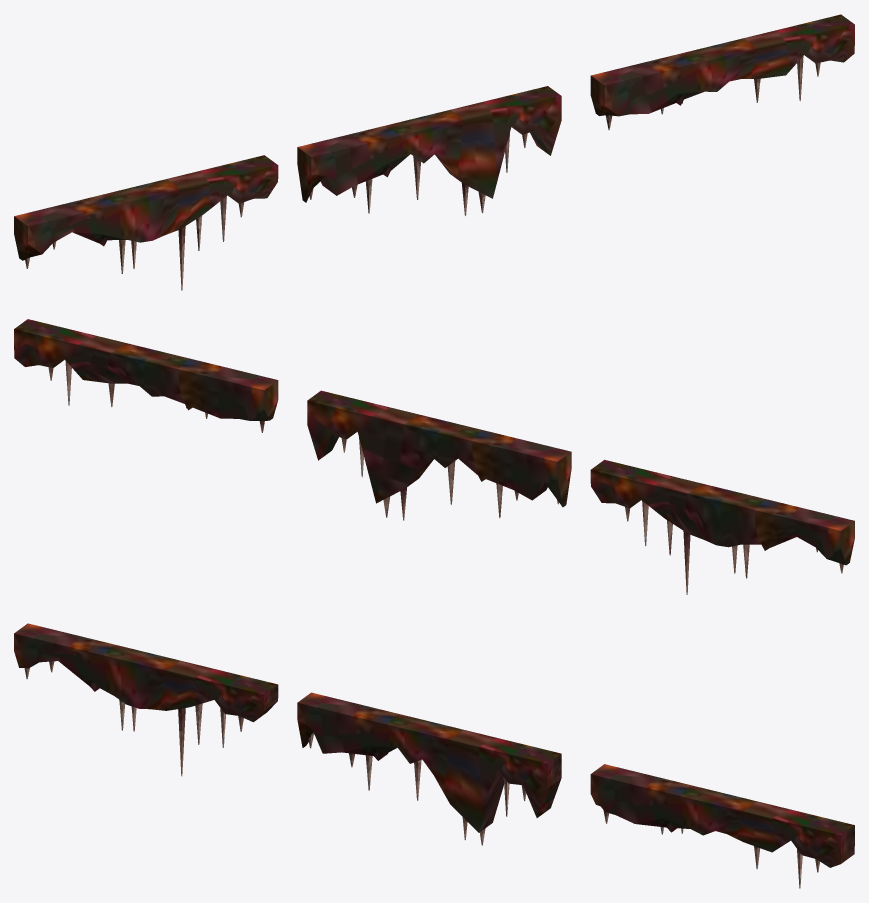
The model's file is Platforms.fbx.
The picture shows the model from 3 angles, top to bottom: view 1: azimuth 30°, elevation 25°; view 2: azimuth 150°, elevation 25°; view 3: azimuth 330°, elevation 25°; orthographic projection.
Parts seen in each view (by area): view 1: Cube.007, Cube.013, Cube.012; view 2: Cube.007, Cube.013, Cube.012; view 3: Cube.007, Cube.013, Cube.012.
Boxes of the visible parts, x1,y1,x2,y2 form: Cube.007: (297,86,561,202); Cube.013: (590,14,854,116); Cube.012: (14,155,278,260); Cube.007: (307,390,571,507); Cube.013: (14,319,278,420); Cube.012: (590,459,854,565); Cube.007: (297,692,561,832); Cube.013: (590,764,854,867); Cube.012: (14,623,278,722).
Bounding box in the file's own units: 39.62 × 4.95 × 1.15.
